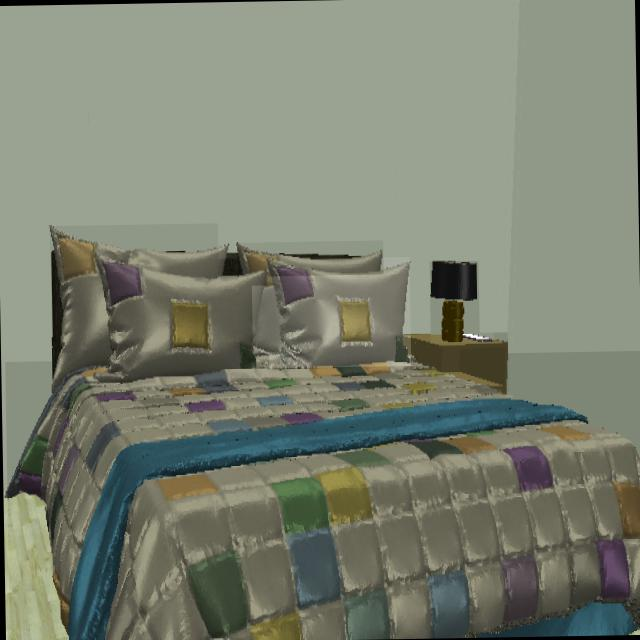bed: (7, 357, 640, 640)
book: (463, 334, 493, 341)
lamp: (430, 261, 479, 343)
nighttable: (402, 334, 507, 390)
pillow: (49, 226, 218, 391), (96, 261, 266, 378), (267, 260, 409, 367), (237, 243, 383, 275), (252, 286, 280, 353)
